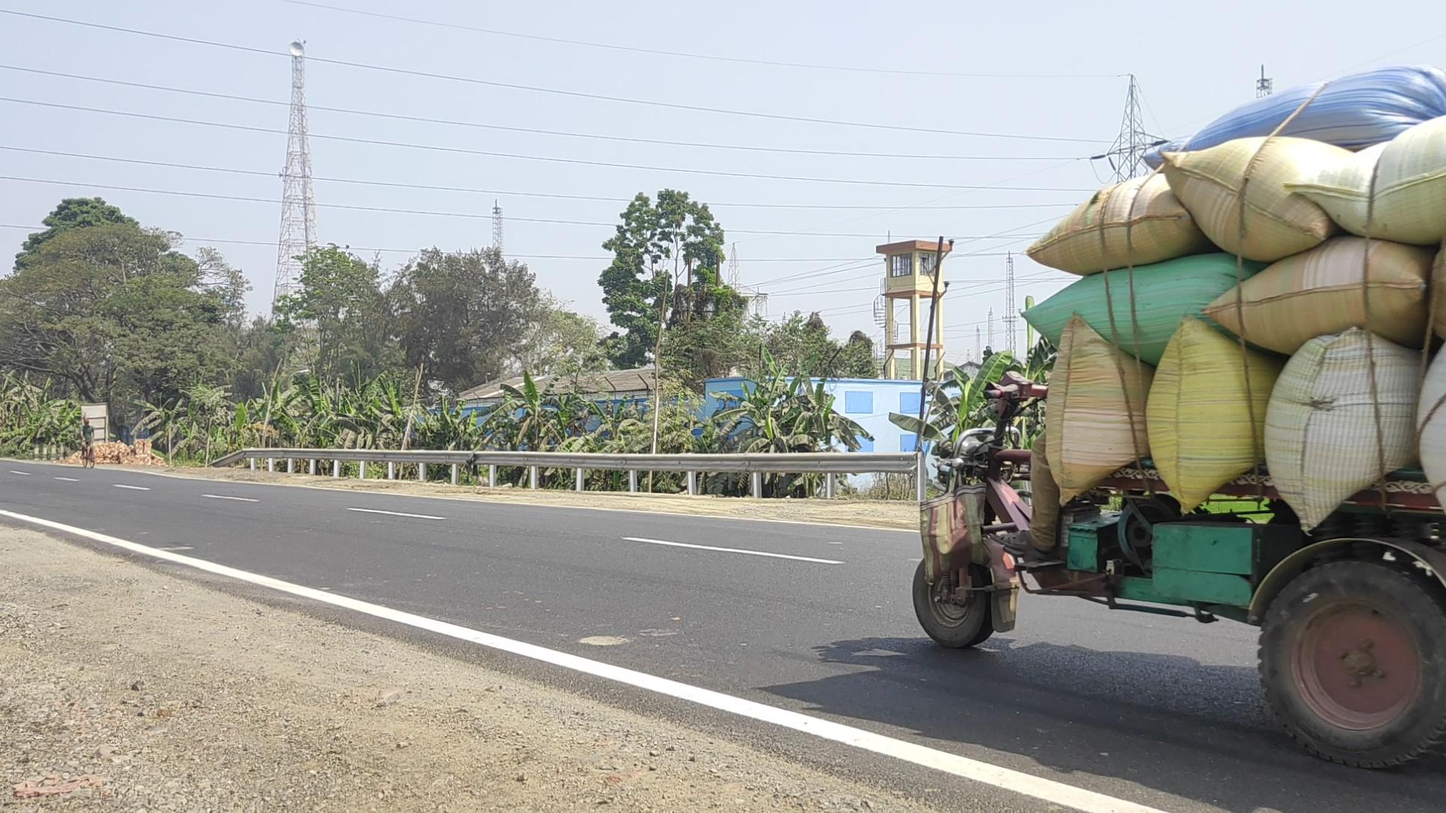bike: (79, 418, 96, 468)
